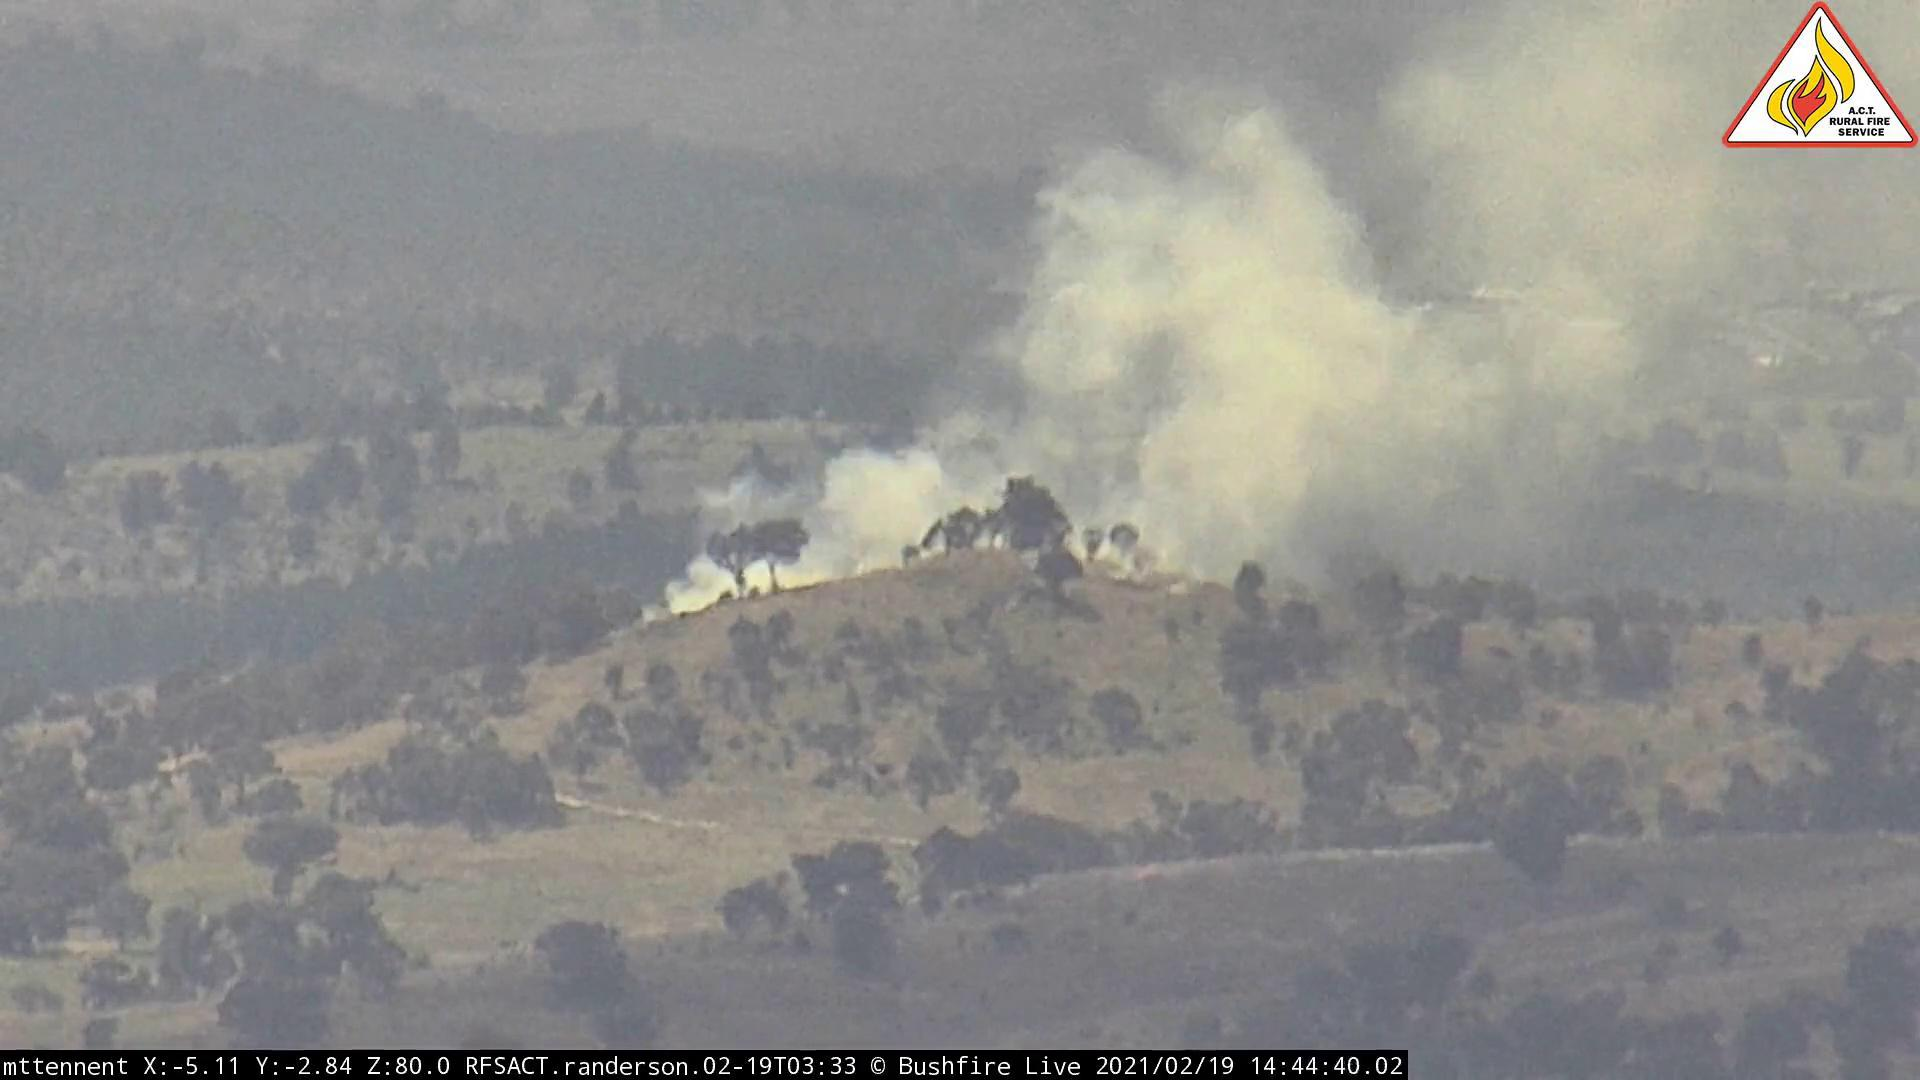Smoke: (667, 57, 1691, 634)
